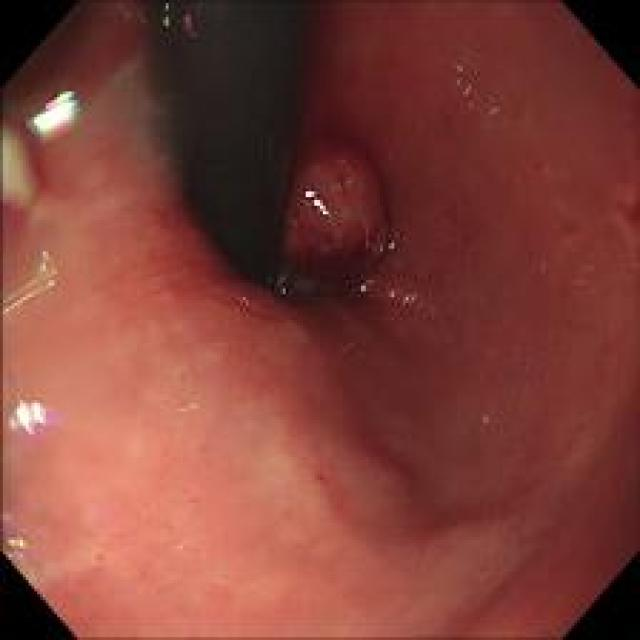color misalignment: (2, 246, 59, 318), (20, 89, 91, 145), (446, 58, 501, 122), (1, 508, 44, 566), (159, 1, 202, 48), (6, 396, 49, 436), (351, 270, 380, 299), (305, 189, 331, 220), (398, 281, 421, 315)
contrast: (141, 8, 322, 310)
specularity: (34, 94, 80, 136), (300, 181, 334, 224), (9, 396, 44, 434)
